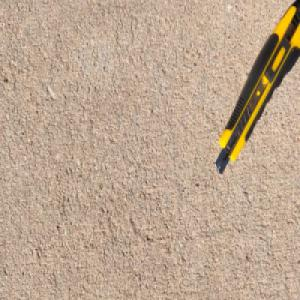Cutter: (212, 2, 300, 177)
